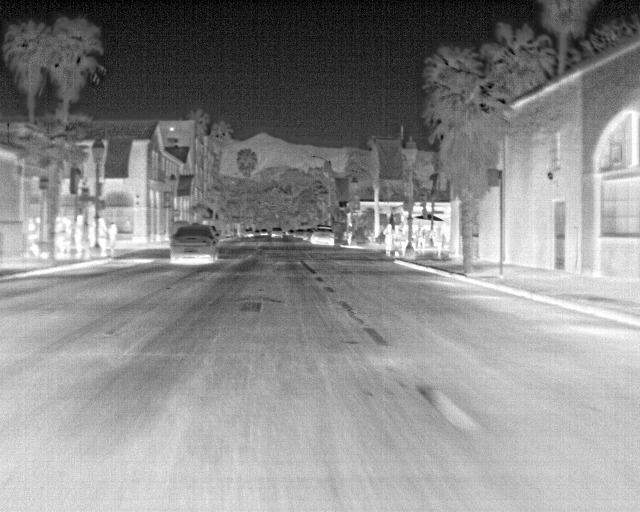bicycle: (166, 223, 218, 267), (309, 223, 335, 249), (269, 227, 285, 241), (241, 225, 256, 239)
empty: (70, 213, 85, 260), (429, 227, 445, 260), (382, 223, 396, 260), (94, 217, 106, 260), (106, 221, 120, 256)
